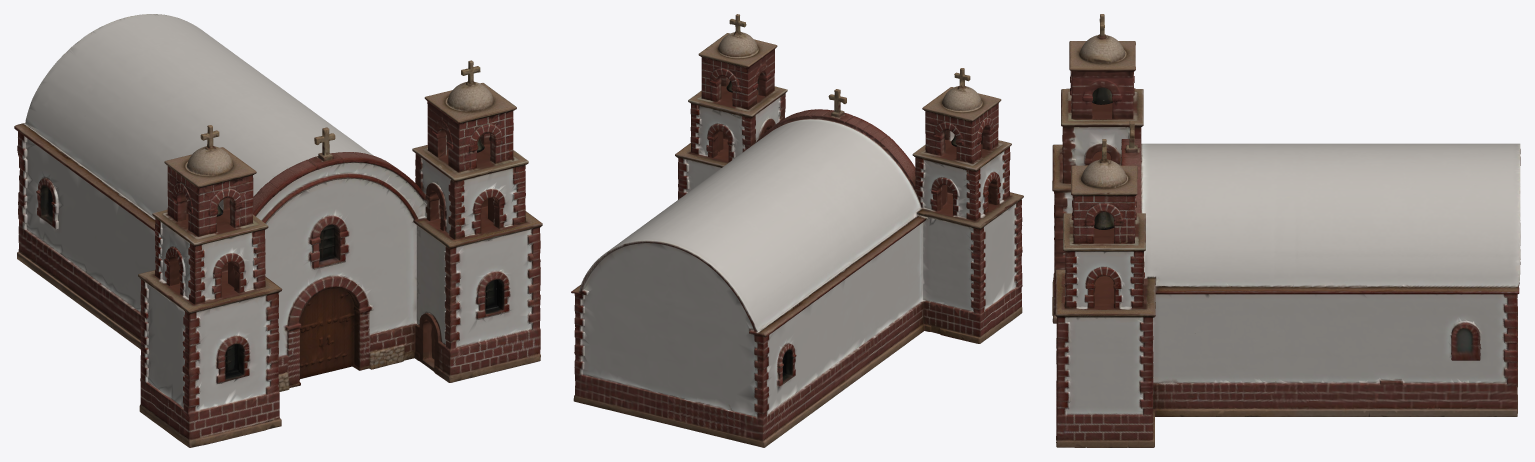
The model's file is igleORI.glb.
3 views of the same model, side by side, from view 1: azimuth 30°, elevation 25°; view 2: azimuth 150°, elevation 25°; view 3: azimuth 270°, elevation 25° (orthographic). The views are drawn at different scales.
Visible parts, largest first — view 1: tripo_node_d409caf9-1c08-4293-a759-ab2414206978; view 2: tripo_node_d409caf9-1c08-4293-a759-ab2414206978; view 3: tripo_node_d409caf9-1c08-4293-a759-ab2414206978.
Boxes of the visible parts, x1,y1,x2,y2 form: tripo_node_d409caf9-1c08-4293-a759-ab2414206978: [14, 14, 542, 447]; tripo_node_d409caf9-1c08-4293-a759-ab2414206978: [571, 14, 1023, 447]; tripo_node_d409caf9-1c08-4293-a759-ab2414206978: [1052, 14, 1520, 447].
Bounding box in the file's own units: 0.8588 × 0.6771 × 1.
1 material, 1 textured.
